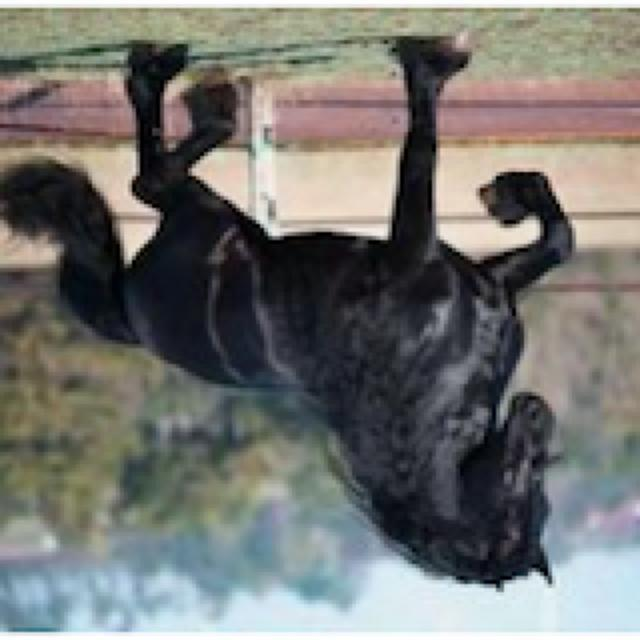Horse: (0, 32, 580, 596)
